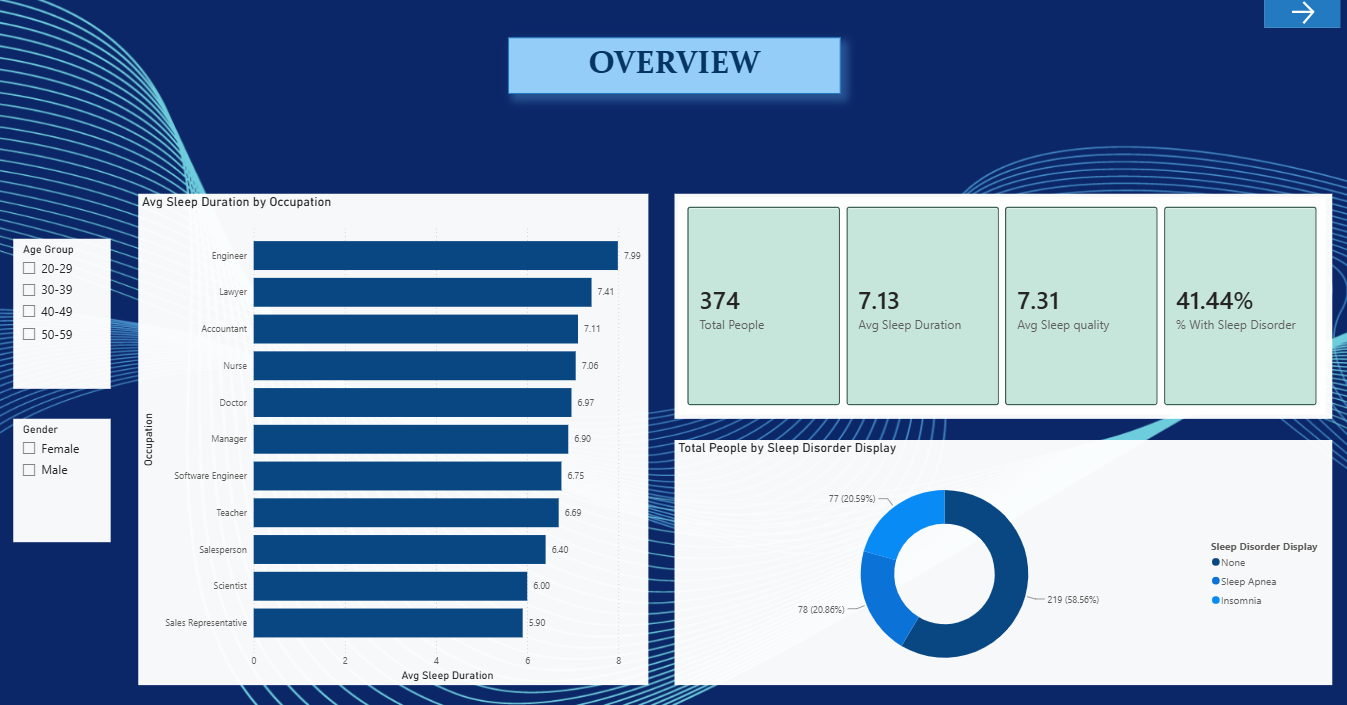

This screenshot's page, from the dashboard's own definition file:
{"tool":"powerbi","page":{"name":"Page 1","canvas":[1685,720],"ordinal":0},"visuals":[{"type":"cardVisual","fields":{"Data":["Sleep_health_and_lifestyle_dataset.Total People","Sleep_health_and_lifestyle_dataset.Avg Sleep Duration","Sleep_health_and_lifestyle_dataset.Avg Sleep quality","Sleep_health_and_lifestyle_dataset.% With Sleep Disorder"]},"box":[810.9,171.6,827.1,252.7],"z":0},{"type":"donutChart","fields":{"Category":["Sleep_health_and_lifestyle_dataset.Sleep Disorder Display"],"Y":["Sleep_health_and_lifestyle_dataset.Total People"]},"box":[811.3,447,827.1,271.6],"z":1000},{"type":"barChart","fields":{"Y":["Sleep_health_and_lifestyle_dataset.Avg Sleep Duration"],"Category":["Sleep_health_and_lifestyle_dataset.Occupation"]},"box":[203.6,261.8,547.4,457.5],"z":2000},{"type":"slicer","fields":{"Values":["Sleep_health_and_lifestyle_dataset.Gender"]},"box":[35.1,460.8,105.4,163.5],"z":3000},{"type":"slicer","fields":{"Values":["Sleep_health_and_lifestyle_dataset.Age Group"]},"box":[35.1,260.8,105.6,162.9],"z":4000},{"type":"textbox","box":[582.5,262.2,150,12.2],"z":4001},{"type":"textbox","box":[605.5,41.9,439.2,55.4],"z":4002},{"type":"actionButton","box":[1553.7,29.1,100,40],"z":4003}]}

Visuals, with their boxes on the page's 1685x720 design canvas (x1, y1, x2, y2). These are canvas units, not pixel positions in the 1347x705 screenshot, which may show the page scaled, cropped or inside an application window:
cardVisual - Sleep_health_and_lifestyle_dataset.Total People x Sleep_health_and_lifestyle_dataset.Avg Sleep Duration: {"x1": 811, "y1": 172, "x2": 1638, "y2": 424}
donutChart - Sleep_health_and_lifestyle_dataset.Sleep Disorder Display x Sleep_health_and_lifestyle_dataset.Total People: {"x1": 811, "y1": 447, "x2": 1638, "y2": 719}
barChart - Sleep_health_and_lifestyle_dataset.Avg Sleep Duration x Sleep_health_and_lifestyle_dataset.Occupation: {"x1": 204, "y1": 262, "x2": 751, "y2": 719}
slicer - Sleep_health_and_lifestyle_dataset.Gender: {"x1": 35, "y1": 461, "x2": 140, "y2": 624}
slicer - Sleep_health_and_lifestyle_dataset.Age Group: {"x1": 35, "y1": 261, "x2": 141, "y2": 424}
textbox: {"x1": 582, "y1": 262, "x2": 732, "y2": 274}
textbox: {"x1": 606, "y1": 42, "x2": 1045, "y2": 97}
actionButton: {"x1": 1554, "y1": 29, "x2": 1654, "y2": 69}
